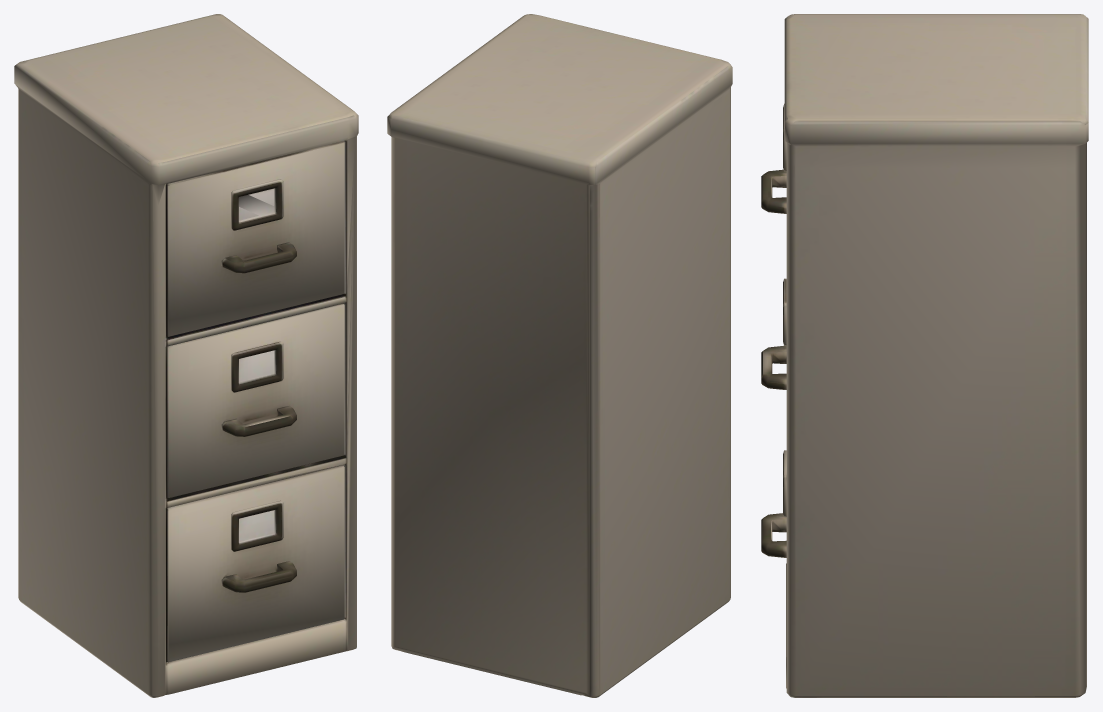
Rendered from tall_filing_cabinet_78ed2fea_v1.glb.
3 renders of one model, left to right at view 1: azimuth 30°, elevation 25°; view 2: azimuth 150°, elevation 25°; view 3: azimuth 270°, elevation 25°, orthographic. The views are drawn at different scales.
Visible parts, largest first — view 1: material; view 2: material; view 3: material.
Part boxes in pixels (x1,y1,x2,y2): material: [14, 14, 358, 697]; material: [387, 14, 732, 697]; material: [761, 14, 1088, 697].
Size of the model in its own units: 0.7674 by 1.9 by 0.9744.
1 material, 1 textured.
